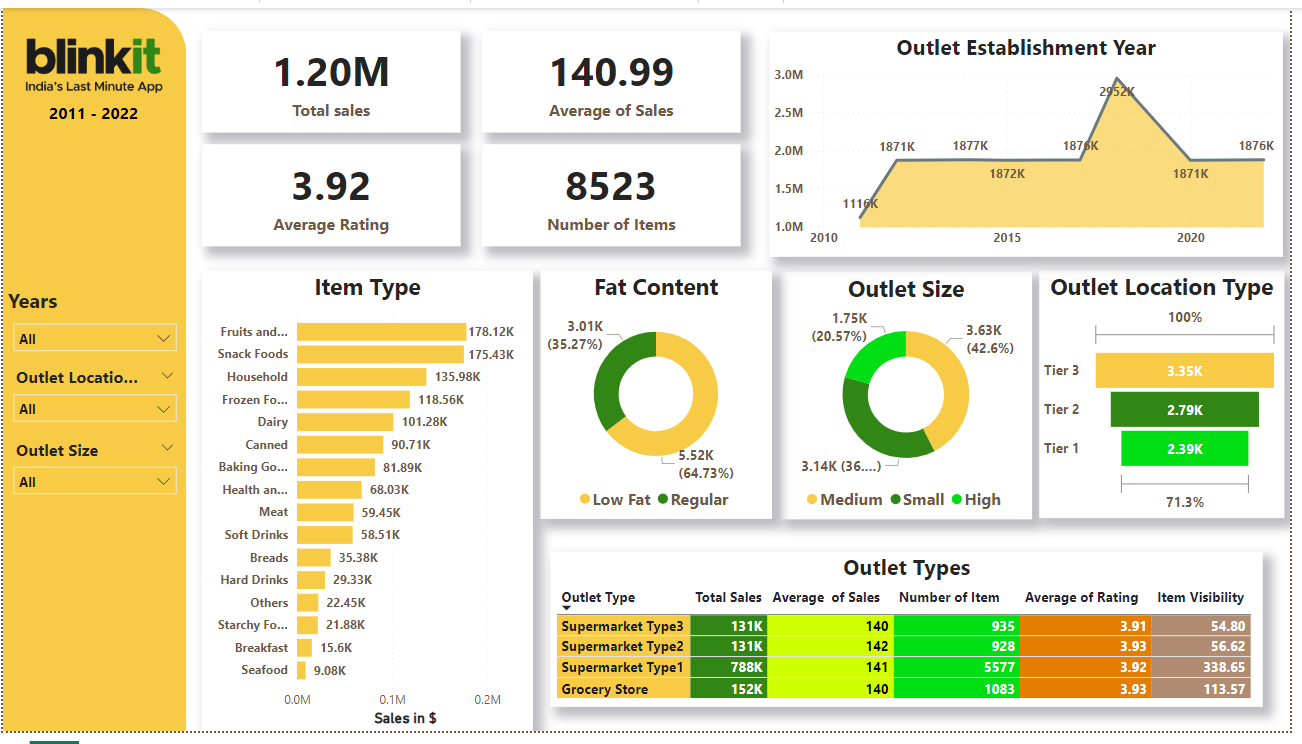

The dashboard page shown, as its layout file describes it:
{"tool":"powerbi","page":{"name":"Page 1","canvas":[1280,720],"ordinal":0},"visuals":[{"type":"barChart","title":"Item Type","fields":{"Category":["BlinkIT-Grocery-Data.Item Type"],"Y":["Sum(BlinkIT-Grocery-Data.Sales)"]},"box":[197.8,261.2,329.6,459],"z":0},{"type":"donutChart","title":"Outlet Size","fields":{"Category":["BlinkIT-Grocery-Data.Outlet Size"],"Y":["CountNonNull(BlinkIT-Grocery-Data.Outlet Size)"]},"box":[773.7,262.5,250,246.3],"z":1000},{"type":"shape","box":[0,0,182.4,719.8],"z":2000},{"type":"funnel","title":"Outlet Location Type","fields":{"Category":["BlinkIT-Grocery-Data.Outlet Location Type"],"Y":["CountNonNull(BlinkIT-Grocery-Data.Outlet Location Type)"]},"box":[1031.2,261.2,243.8,246.3],"z":3000},{"type":"donutChart","title":"Fat Content","fields":{"Category":["BlinkIT-Grocery-Data.Item Fat Content"],"Y":["CountNonNull(BlinkIT-Grocery-Data.Item Fat Content)"]},"box":[534.9,261.2,230.1,247.5],"z":4000},{"type":"areaChart","title":"Outlet Establishment Year","fields":{"Category":["BlinkIT-Grocery-Data.Outlet Establishment Year"],"Y":["Sum(BlinkIT-Grocery-Data.Outlet Establishment Year)"]},"box":[762.5,23.6,511.3,223.9],"z":5000},{"type":"tableEx","title":"Outlet Types","fields":{"Values":["BlinkIT-Grocery-Data.Outlet Type","Sum(BlinkIT-Grocery-Data.Sales)1","Avg(BlinkIT-Grocery-Data.Sales)","CountNonNull(BlinkIT-Grocery-Data.Number of Item)","Avg(BlinkIT-Grocery-Data.Rating)","Sum(BlinkIT-Grocery-Data.Item Visibility)"]},"box":[544.9,541.1,709.1,154.3],"z":6000},{"type":"card","title":"ujruyyriu","fields":{"Values":["Sum(BlinkIT-Grocery-Data.Sales)"]},"box":[198.1,22.8,258,101.2],"z":7000},{"type":"card","title":"ujruyyriu","fields":{"Values":["Avg(BlinkIT-Grocery-Data.Sales)"]},"box":[476.1,22.8,258,101.2],"z":8000},{"type":"card","title":"ujruyyriu","fields":{"Values":["Avg(BlinkIT-Grocery-Data.Rating)"]},"box":[198.1,135.4,258,101.2],"z":9000},{"type":"card","title":"ujruyyriu","fields":{"Values":["CountNonNull(BlinkIT-Grocery-Data.Item Type)"]},"box":[476.1,135.4,258,101.2],"z":10000},{"type":"slicer","title":"Years","fields":{"Values":["BlinkIT-Grocery-Data.Outlet Establishment Year"]},"box":[0,278,182.4,72.7],"z":11000},{"type":"slicer","title":"Outlet Location Type, Outlet Establishment Year","fields":{"Values":["BlinkIT-Grocery-Data.Outlet Location Type"]},"box":[0,350.6,182.4,72.7],"z":12000},{"type":"slicer","title":"Outlet Location Type, Outlet Establishment Year","fields":{"Values":["BlinkIT-Grocery-Data.Outlet Size"]},"box":[0,423.3,182.4,72.7],"z":13000},{"type":"textbox","box":[28.6,88.3,123.2,34.8],"z":14000},{"type":"image","box":[14.9,22.4,150.5,68.4],"z":15000}]}

Visuals, with their boxes in screenshot pixels (x1, y1, x2, y2), scaled from the page's 1280x720 canvas onto the 1302x744 screenshot:
"Item Type" barChart: box(201, 270, 536, 743)
"Outlet Size" donutChart: box(787, 271, 1041, 526)
shape: box(0, 0, 186, 743)
"Outlet Location Type" funnel: box(1049, 270, 1297, 524)
"Fat Content" donutChart: box(544, 270, 778, 526)
"Outlet Establishment Year" areaChart: box(776, 24, 1296, 256)
"Outlet Types" tableEx: box(554, 559, 1276, 719)
"ujruyyriu" card: box(202, 24, 464, 128)
"ujruyyriu" card: box(484, 24, 747, 128)
"ujruyyriu" card: box(202, 140, 464, 244)
"ujruyyriu" card: box(484, 140, 747, 244)
"Years" slicer: box(0, 287, 186, 362)
"Outlet Location Type, Outlet Establishment Year" slicer: box(0, 362, 186, 437)
"Outlet Location Type, Outlet Establishment Year" slicer: box(0, 437, 186, 513)
textbox: box(29, 91, 154, 127)
image: box(15, 23, 168, 94)
